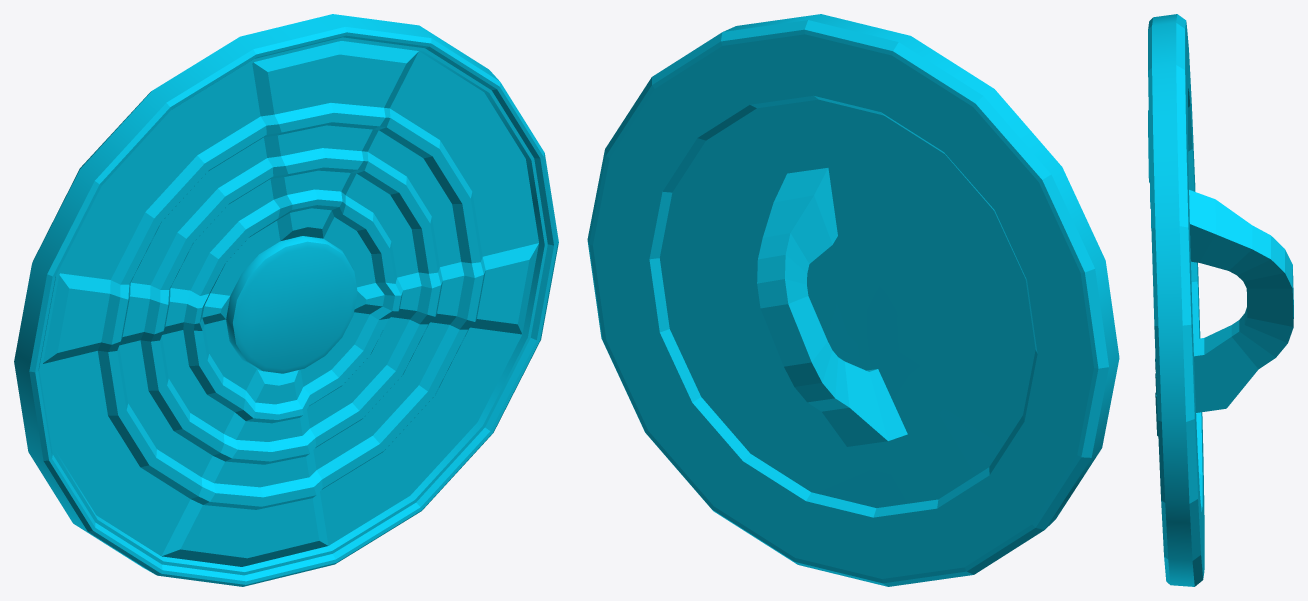
The model's file is roundshield2_low.fbx.
3 views of the same model, side by side, from view 1: azimuth 30°, elevation 25°; view 2: azimuth 150°, elevation 25°; view 3: azimuth 270°, elevation 25° (orthographic). The views are drawn at different scales.
Visible parts, largest first — view 1: ShieldVar2_low; view 2: ShieldVar2_low; view 3: ShieldVar2_low.
Boxes of the visible parts, x1=… form: ShieldVar2_low: x1=14, y1=14, x2=558, y2=586; ShieldVar2_low: x1=587, y1=14, x2=1119, y2=586; ShieldVar2_low: x1=1148, y1=14, x2=1293, y2=586.
Size of the model in its own units: 1085 by 1068 by 275.
